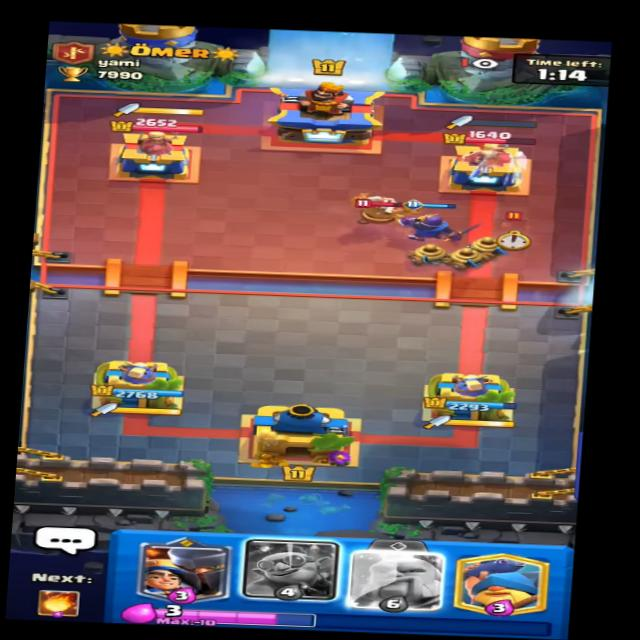monk: (349, 187, 420, 227)
